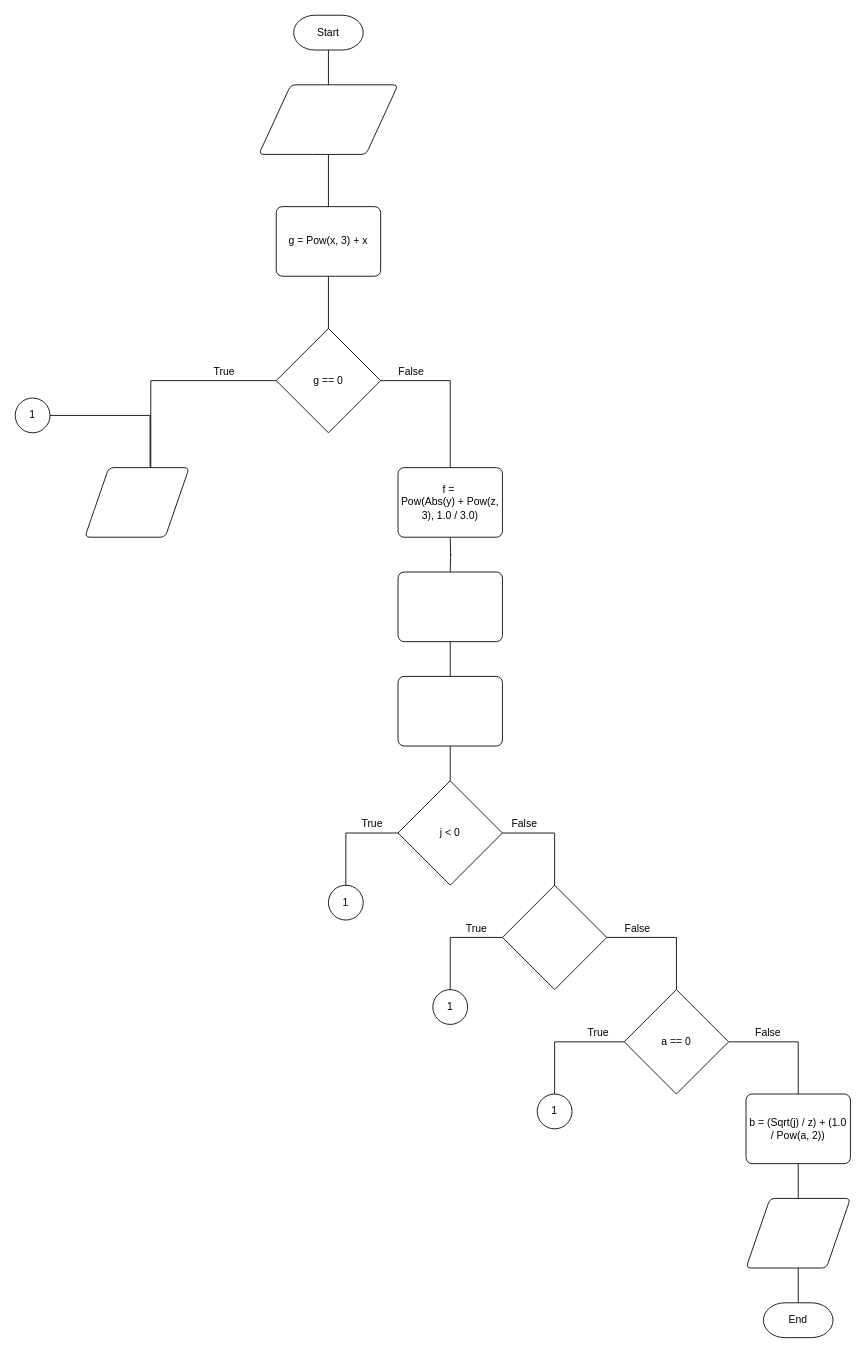
Some shapes in this 866 by 1353 pixel diagram are drawn without their labels. Each missing label, with the box of its shape:
a = x + (f / g): (397, 571, 502, 642)
a, b: (745, 1198, 850, 1268)
data is incorect: (84, 467, 189, 537)
j = x - y: (397, 676, 502, 746)
x є Z y є Z z є Z x!=y!=z: (258, 84, 398, 154)
z == 0: (502, 884, 607, 990)
